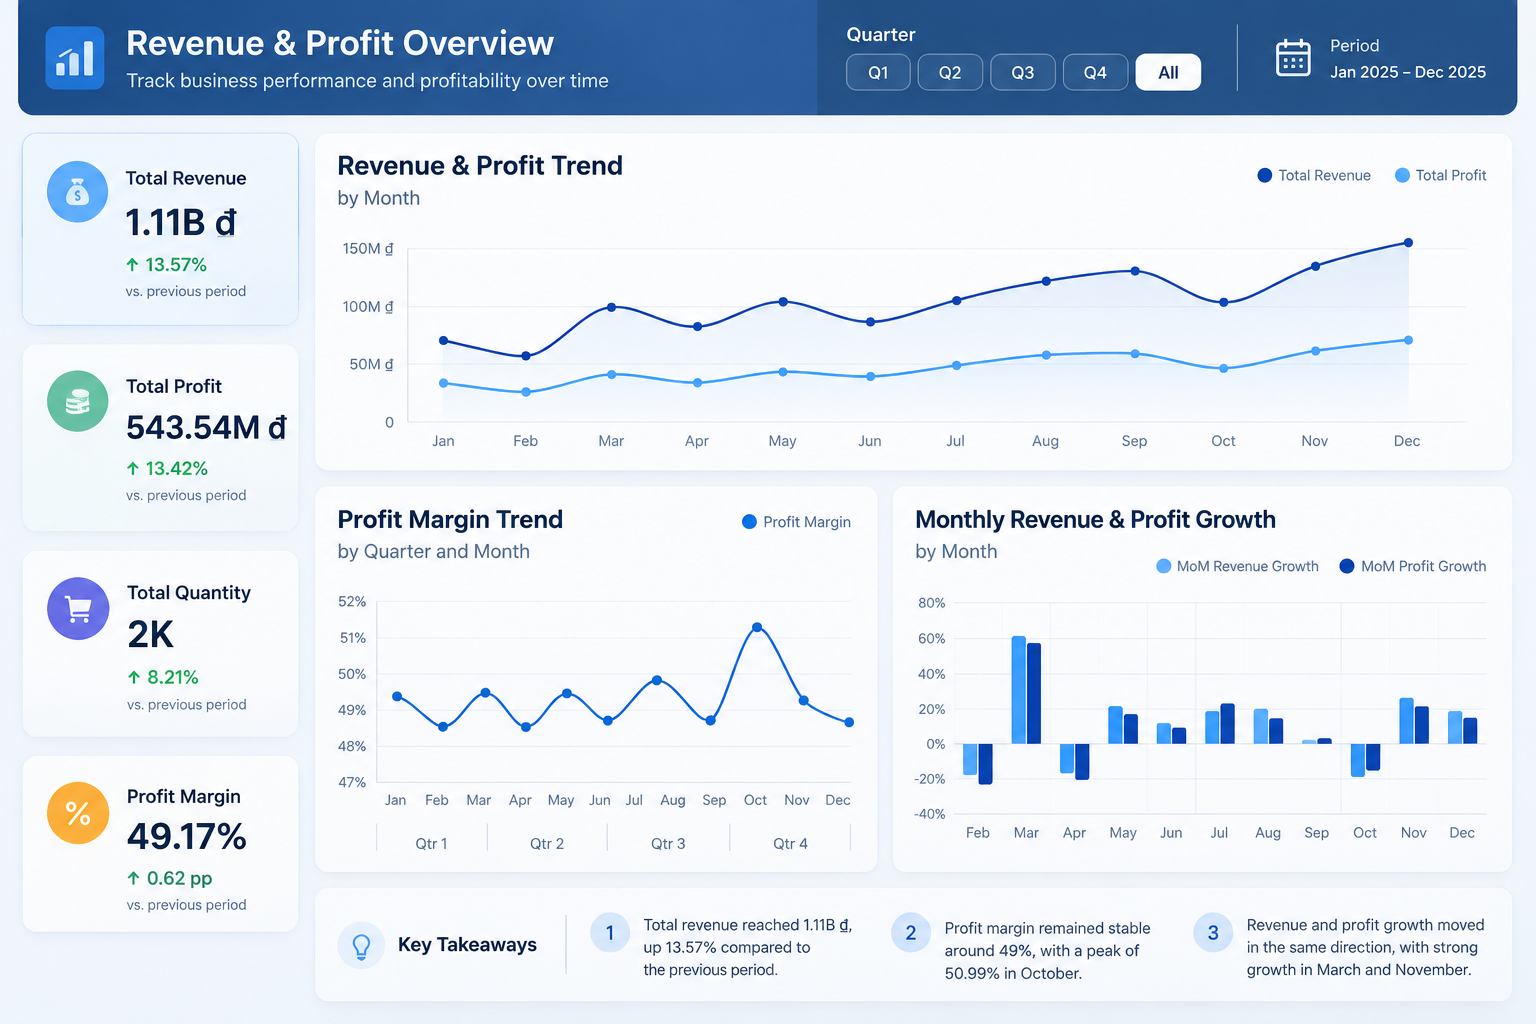

Layout of this report page (visuals, bound fields, positions):
{"tool":"powerbi","page":{"name":"Page 1","canvas":[1280,720],"ordinal":0},"visuals":[{"type":"shape","box":[0,0,1280,124.2],"z":0},{"type":"cardVisual","fields":{"Data":["SalesTable.Total Profit"]},"box":[0,448.5,201.8,113.9],"z":1000},{"type":"cardVisual","fields":{"Data":["SalesTable.Profit Margin"]},"box":[0,584.8,200.1,119],"z":2000},{"type":"cardVisual","fields":{"Data":["SalesTable.Total Quantity"]},"box":[0,303.6,201.8,113.9],"z":3000},{"type":"cardVisual","fields":{"Data":["SalesTable.Total Revenue"]},"box":[0,144.9,200.1,127.7],"z":4000},{"type":"lineChart","fields":{"Category":["DateTable.Quarter","DateTable.Month"],"Y":["SalesTable.Total Profit","SalesTable.Total Revenue"]},"box":[281.2,134.6,998.8,314],"z":5000},{"type":"clusteredColumnChart","fields":{"Category":["DateTable.Date.Variation.Date Hierarchy.Quarter","DateTable.Date.Variation.Date Hierarchy.Month"],"Y":["SalesTable.MoM Revenue Growth","SalesTable.MoM Profit Growth"]},"box":[269.1,351.9,500.3,367.4],"z":6000},{"type":"lineChart","fields":{"Category":["DateTable.Date.Variation.Date Hierarchy.Quarter","DateTable.Date.Variation.Date Hierarchy.Month"],"Y":["SalesTable.Profit Margin"]},"box":[829.8,410.6,452,310.5],"z":7000},{"type":"advancedSlicerVisual","fields":{"Values":["DateTable.Date.Variation.Date Hierarchy.Quarter"]},"box":[781.5,13.8,486.5,208.7],"z":8000},{"type":"textbox","box":[41.4,20.7,600.3,124.2],"z":8001}]}

Visuals, with their boxes on the page's 1280x720 design canvas (x1, y1, x2, y2). These are canvas units, not pixel positions in the 1536x1024 screenshot, which may show the page scaled, cropped or inside an application window:
shape: detection(0, 0, 1280, 124)
cardVisual - SalesTable.Total Profit: detection(0, 448, 202, 562)
cardVisual - SalesTable.Profit Margin: detection(0, 585, 200, 704)
cardVisual - SalesTable.Total Quantity: detection(0, 304, 202, 418)
cardVisual - SalesTable.Total Revenue: detection(0, 145, 200, 273)
lineChart - DateTable.Quarter x DateTable.Month: detection(281, 135, 1280, 449)
clusteredColumnChart - DateTable.Date.Variation.Date Hierarchy.Quarter x DateTable.Date.Variation.Date Hierarchy.Month: detection(269, 352, 769, 719)
lineChart - DateTable.Date.Variation.Date Hierarchy.Quarter x DateTable.Date.Variation.Date Hierarchy.Month: detection(830, 411, 1282, 721)
advancedSlicerVisual - DateTable.Date.Variation.Date Hierarchy.Quarter: detection(782, 14, 1268, 222)
textbox: detection(41, 21, 642, 145)
